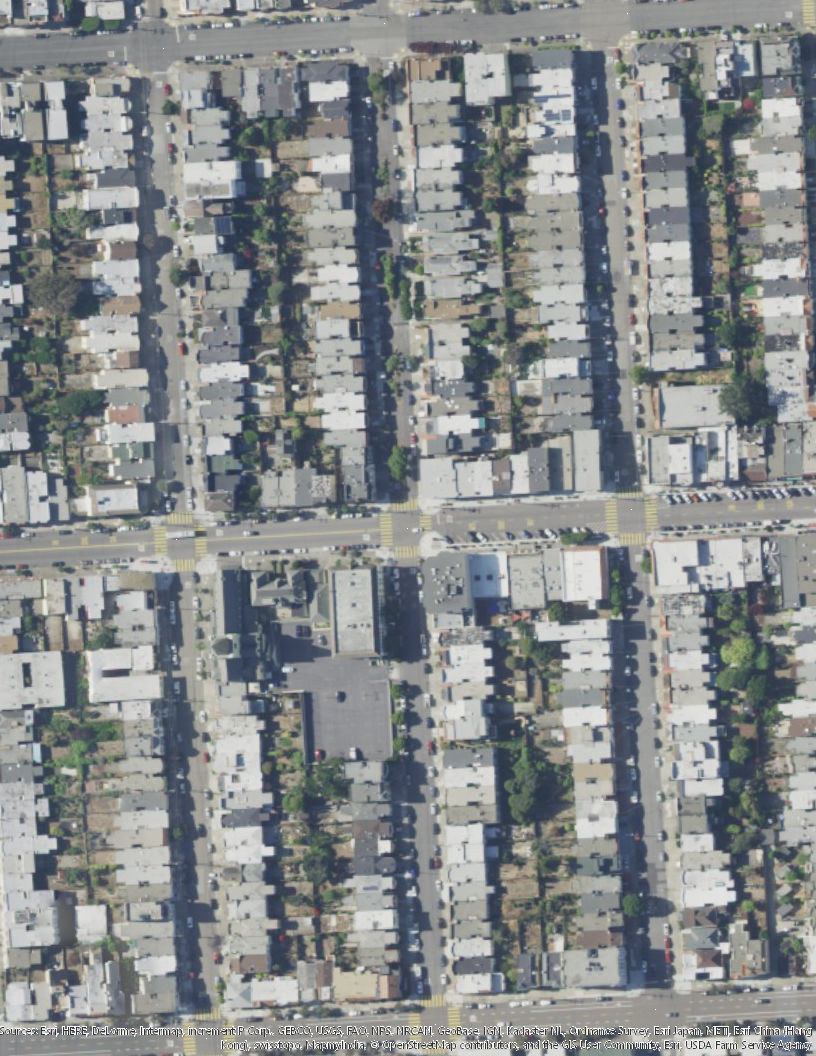zebracross: (193, 1005, 224, 1022), (644, 494, 658, 531), (379, 512, 394, 545), (605, 496, 618, 534), (195, 521, 207, 561), (151, 526, 167, 554), (391, 499, 419, 515), (165, 512, 195, 526), (801, 1, 816, 28), (420, 993, 448, 1007), (172, 557, 196, 573), (616, 485, 643, 499), (617, 531, 647, 543), (395, 544, 420, 558), (447, 1004, 462, 1026), (184, 1036, 198, 1054), (420, 512, 431, 531), (409, 1010, 418, 1026)
